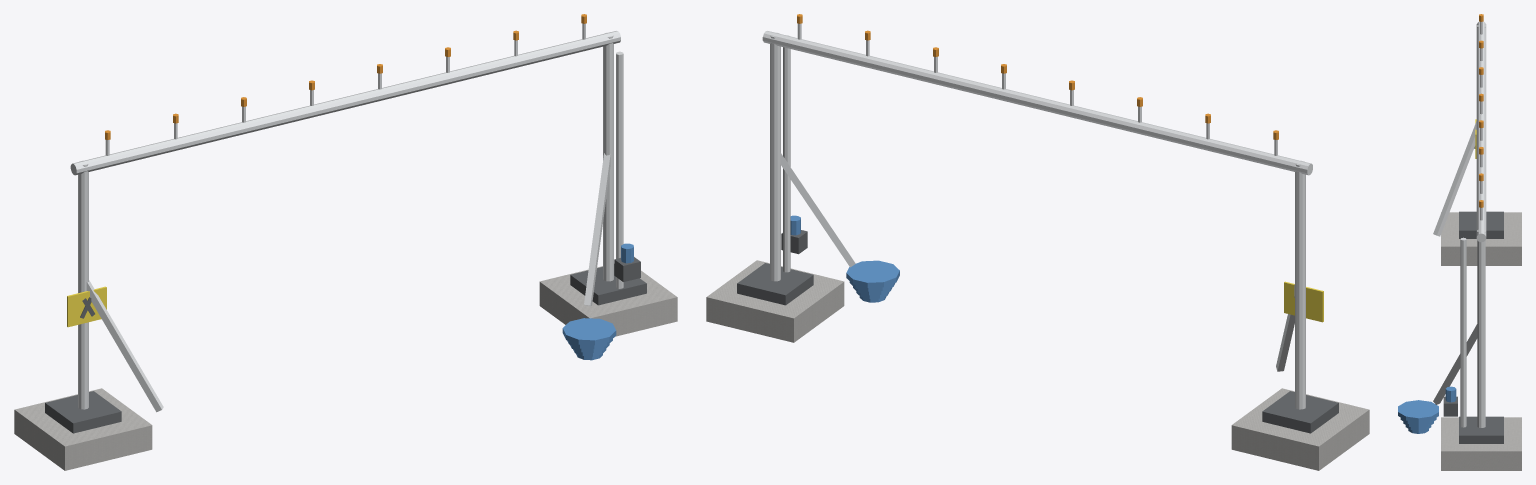
Rendered from demolition-and-site-clearance-demolition-and-site-clea-2c9e4c53__35704.glb.
3 renders of one model, left to right at view 1: azimuth 30°, elevation 25°; view 2: azimuth 150°, elevation 25°; view 3: azimuth 270°, elevation 25°, orthographic. The views are drawn at different scales.
Visible parts, largest first — view 1: demolition-and-site-clearance-dust-suppression-sprinkler-bar (×5); view 2: demolition-and-site-clearance-dust-suppression-sprinkler-bar (×5); view 3: demolition-and-site-clearance-dust-suppression-sprinkler-bar (×5).
Boxes of the visible parts, x1=… form: demolition-and-site-clearance-dust-suppression-sprinkler-bar (×5): x1=14, y1=23, x2=677, y2=470; demolition-and-site-clearance-dust-suppression-sprinkler-bar (×5): x1=706, y1=23, x2=1369, y2=470; demolition-and-site-clearance-dust-suppression-sprinkler-bar (×5): x1=1398, y1=14, x2=1521, y2=470.
Size of the model in its own units: 6.3 by 2.99 by 1.38.
Materials: 6 (1 with a texture image).
